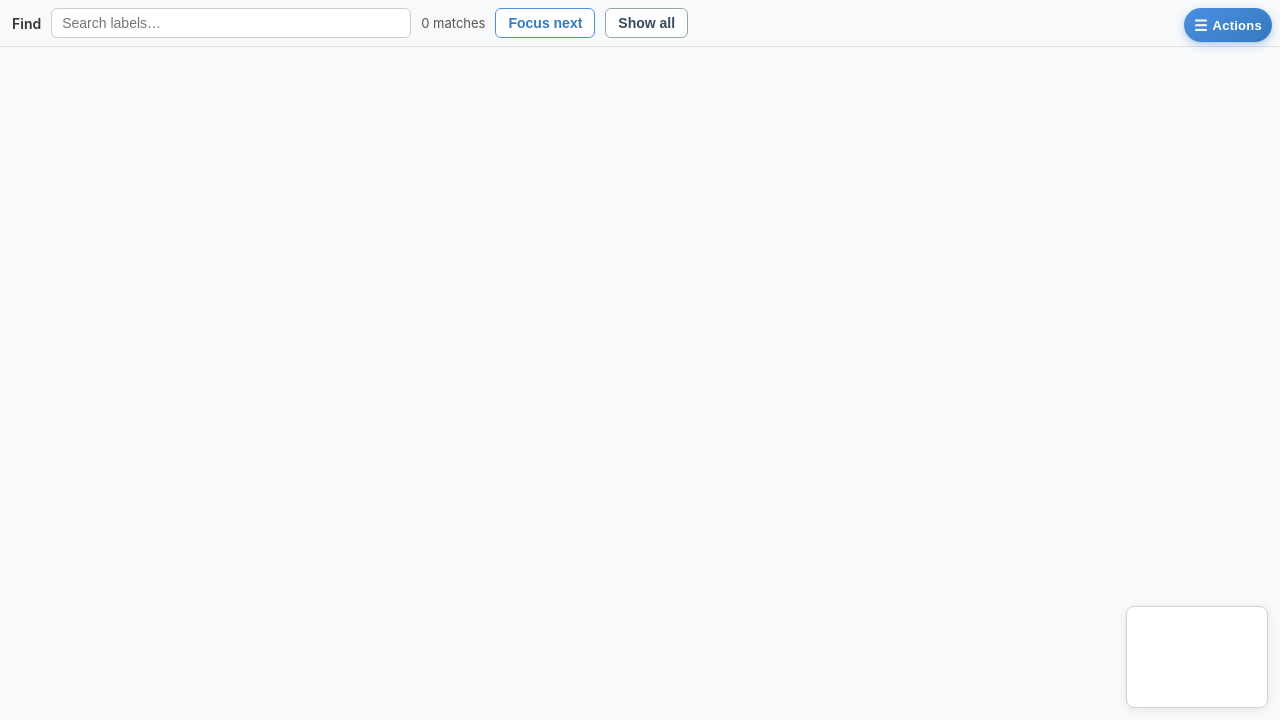
Test: GraphVisualization graph action menu › still closes add-node modal on Escape
Right-click the icon with class "graph-visualization": (640, 384) [0,47,1279,719]
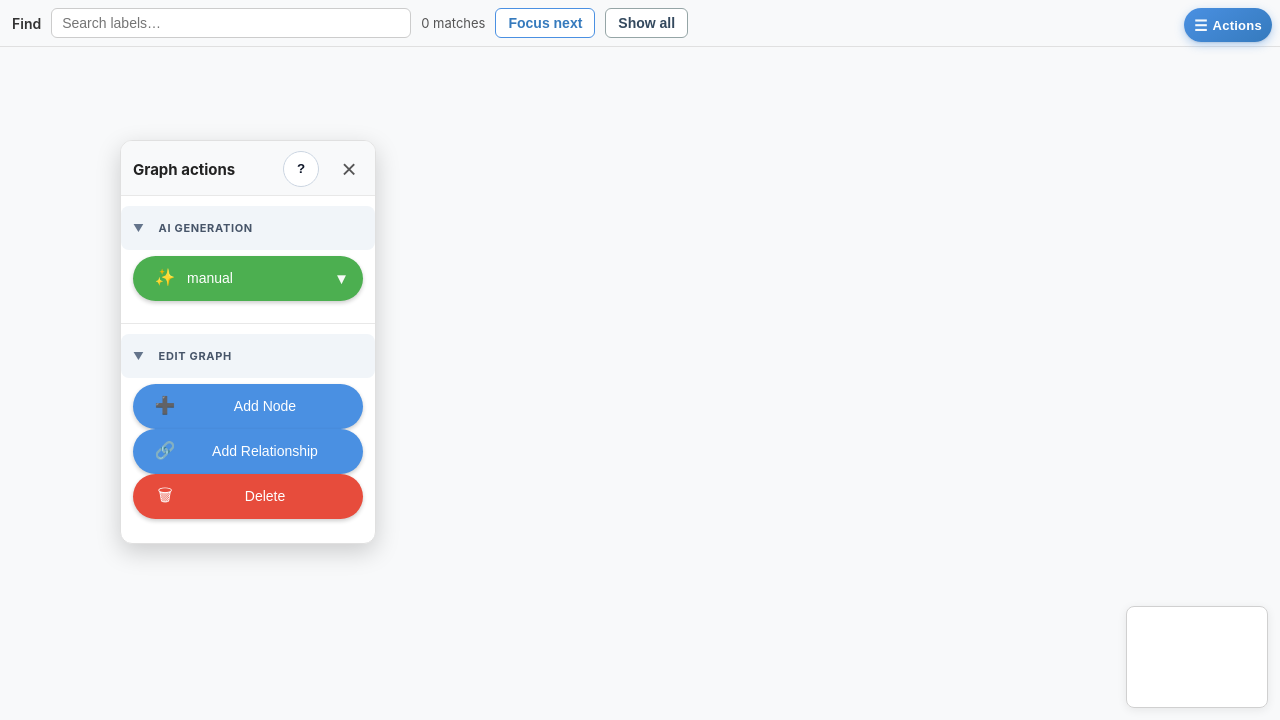
Click the button "➕ Add Node": (248, 406) [133,384,363,429]
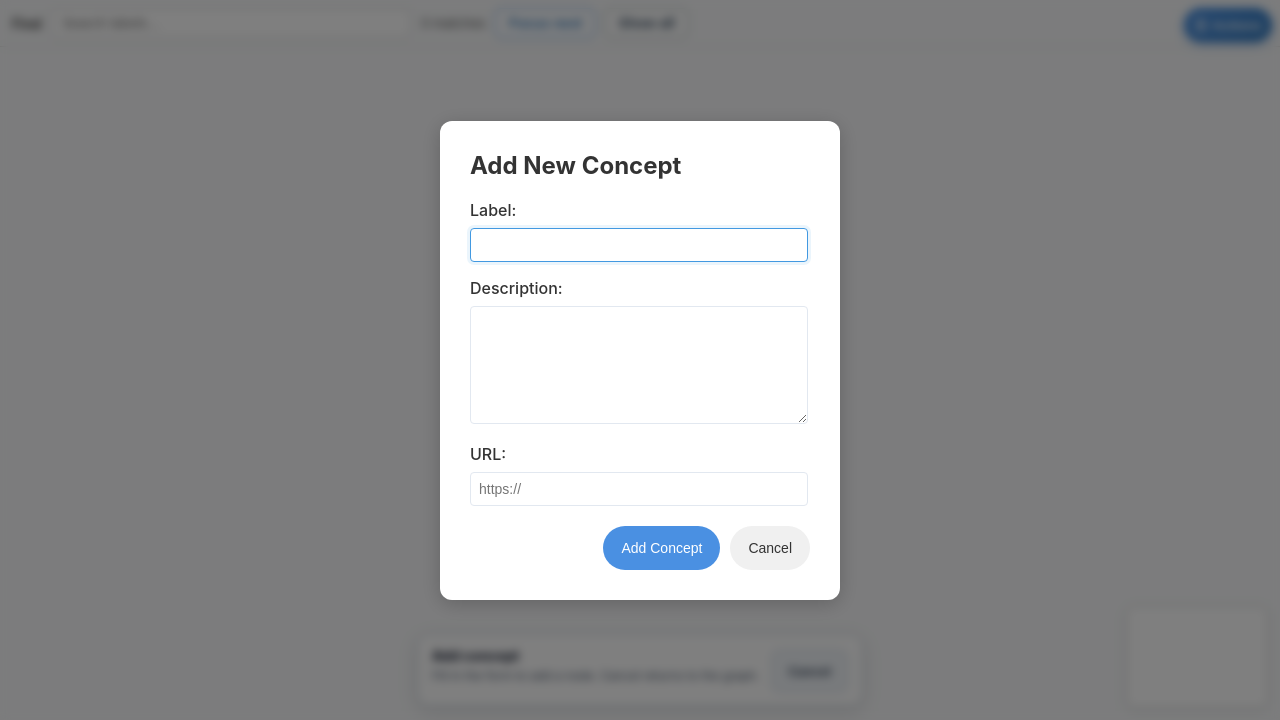
Result: the heading "Add New Concept" is shown at [470,150,681,180]
Press Escape
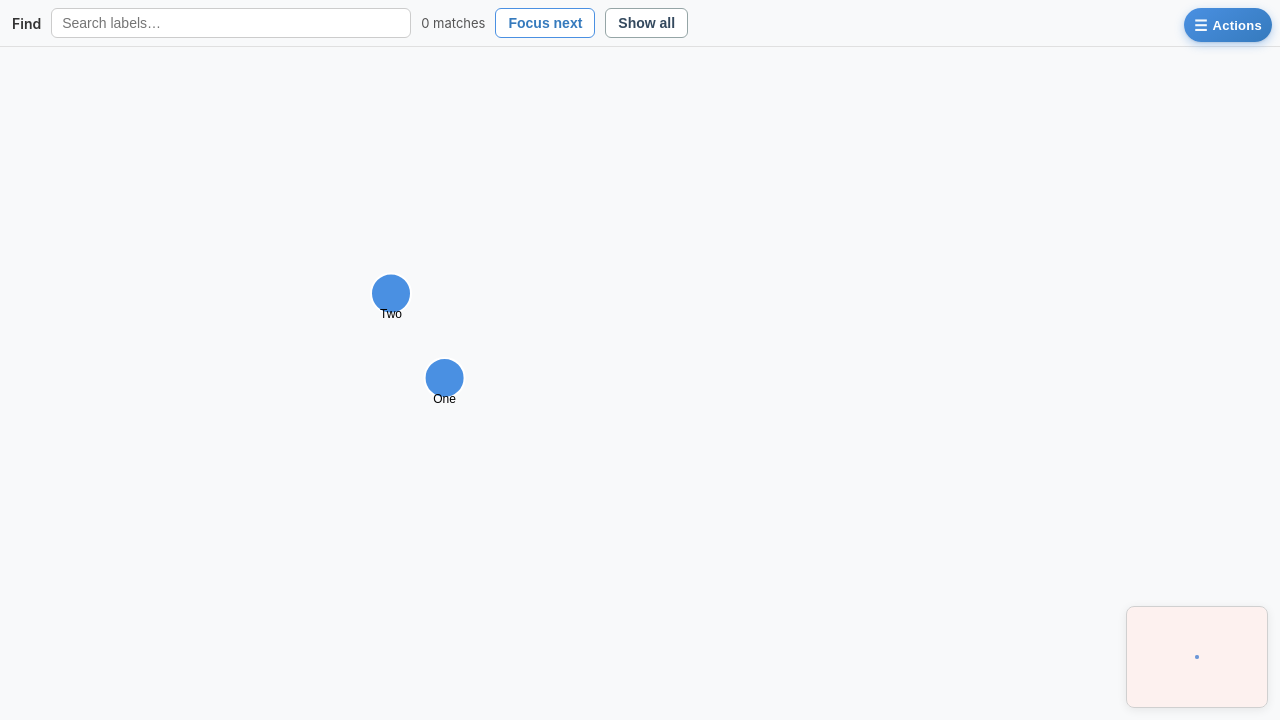
Result: the heading "Add New Concept" is gone
